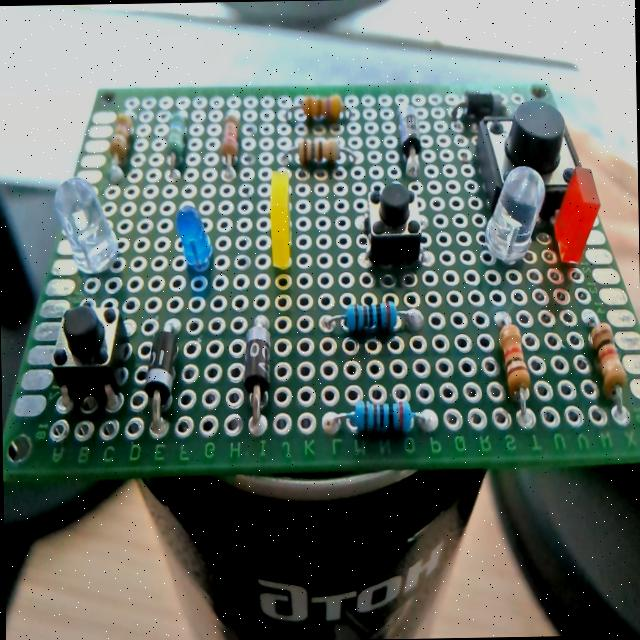diode: (142, 320, 180, 431), (242, 318, 272, 434), (446, 84, 511, 118), (398, 104, 422, 178)
led: (53, 175, 120, 275), (484, 164, 546, 264), (550, 166, 602, 266), (263, 166, 296, 282), (175, 202, 213, 271)
resistor: (318, 396, 437, 437), (319, 299, 422, 334), (589, 322, 627, 398), (498, 322, 529, 396), (163, 110, 190, 172), (300, 93, 344, 122), (298, 136, 340, 166), (110, 113, 134, 164), (220, 114, 240, 174)
switch: (476, 106, 580, 198), (54, 300, 130, 407), (362, 180, 428, 266)
